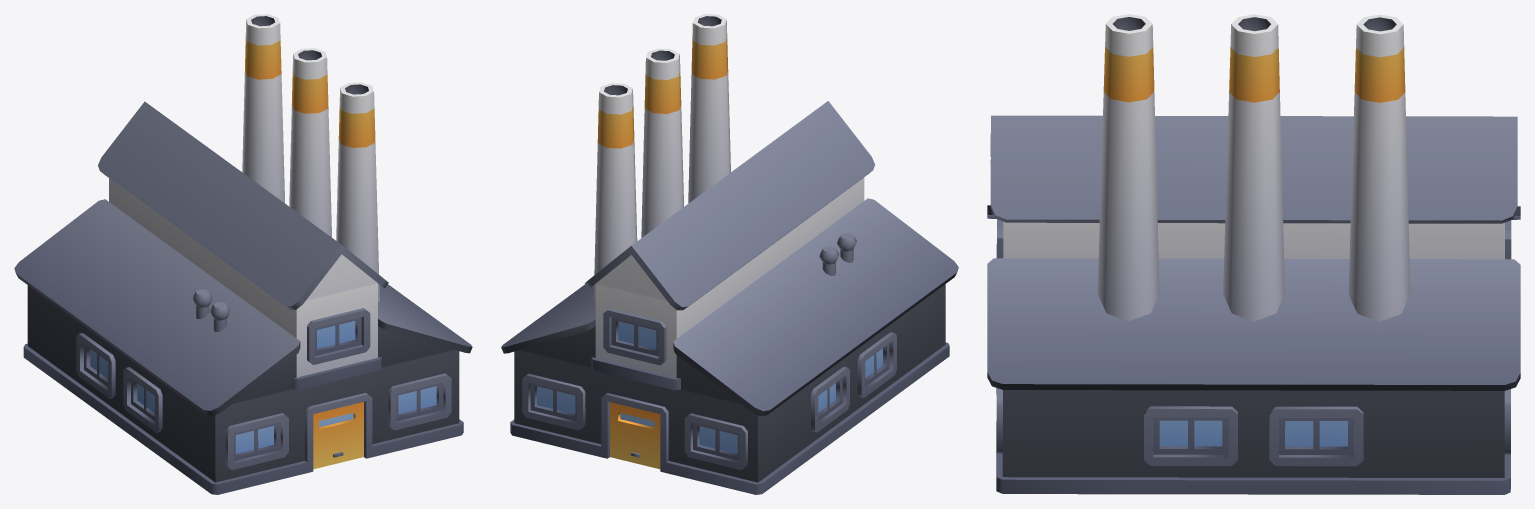
File: building-m_lev1.glb
3 renders of one model, left to right at view 1: azimuth 30°, elevation 25°; view 2: azimuth 150°, elevation 25°; view 3: azimuth 270°, elevation 25°, orthographic. The views are drawn at different scales.
Parts seen in each view (by area): view 1: building-m_lev1; view 2: building-m_lev1; view 3: building-m_lev1.
Boxes of the visible parts, x1=… form: building-m_lev1: x1=14, y1=14, x2=472, y2=494; building-m_lev1: x1=501, y1=14, x2=958, y2=494; building-m_lev1: x1=987, y1=14, x2=1520, y2=494.
Bounding box in the file's own units: 1.32 × 1.52 × 1.7.
Materials: 1 (1 with a texture image).
